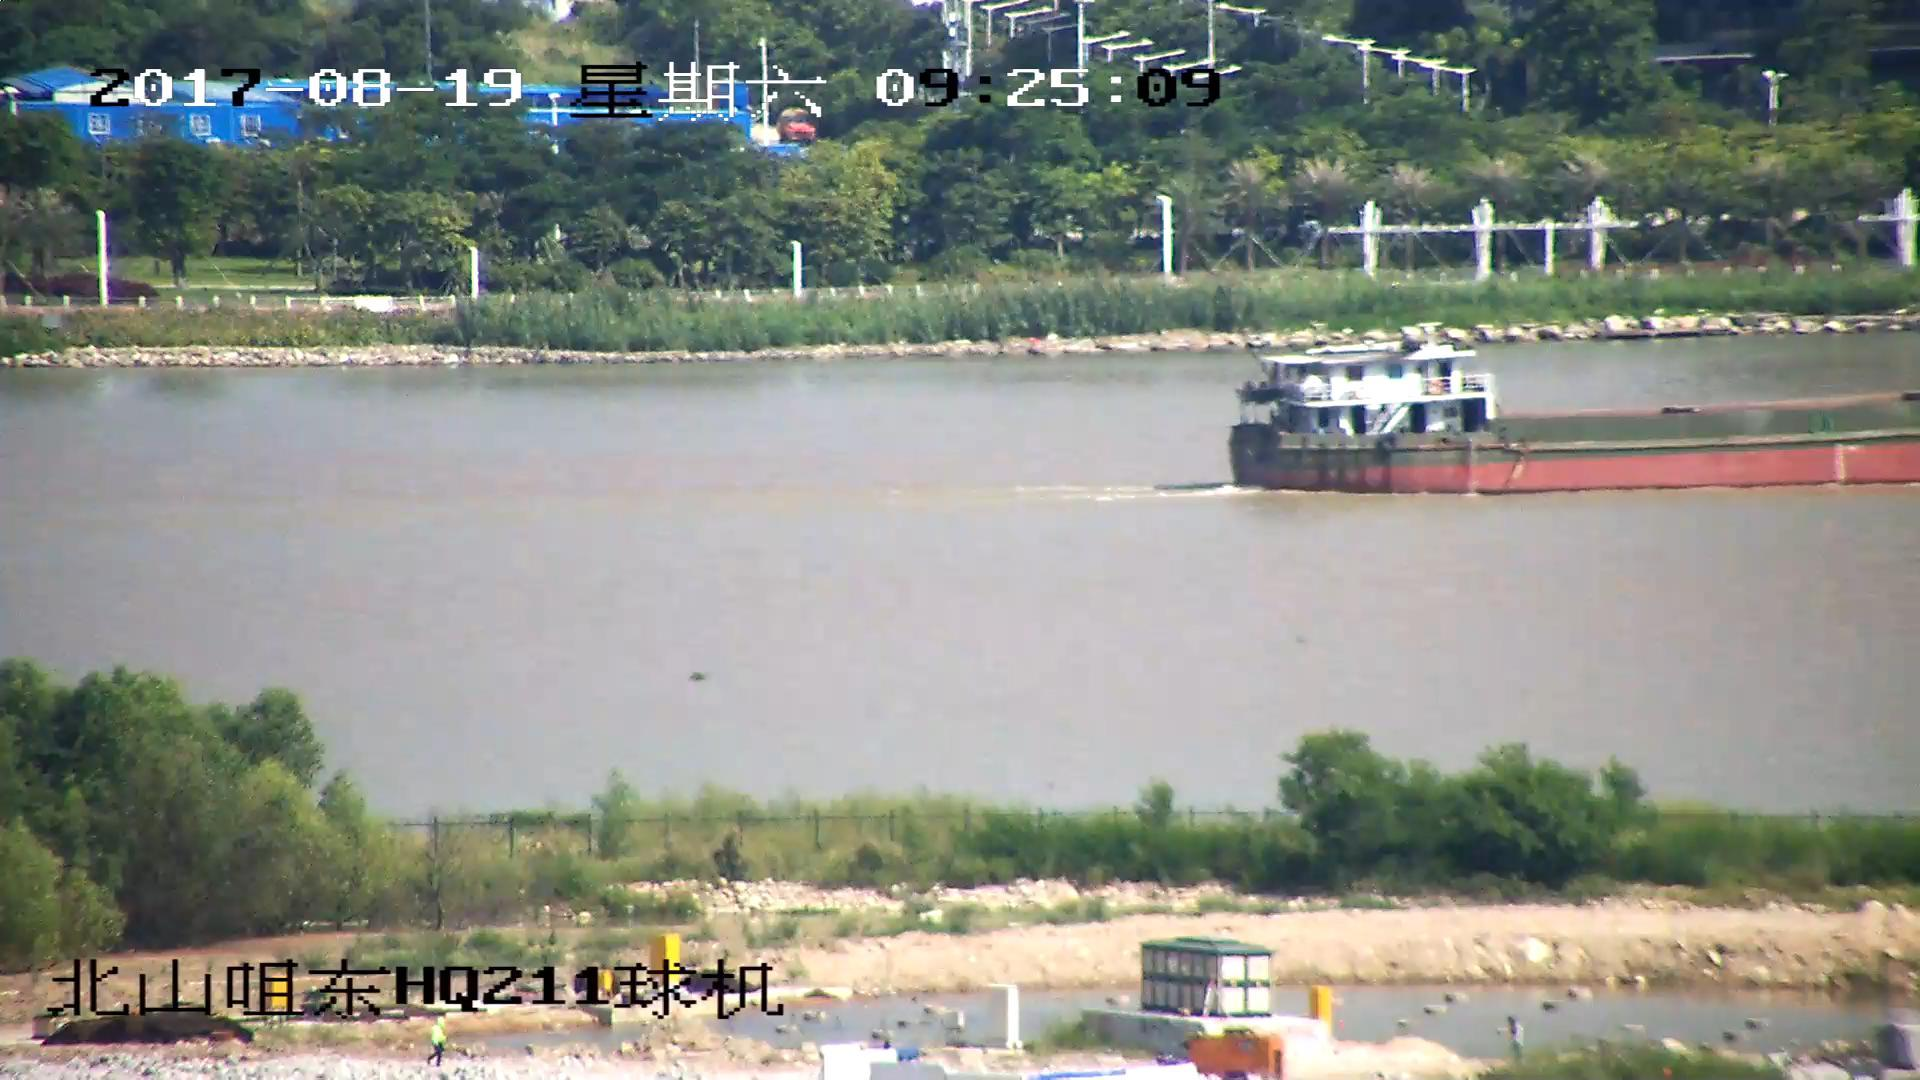Ship: (1217, 339, 1920, 496)
